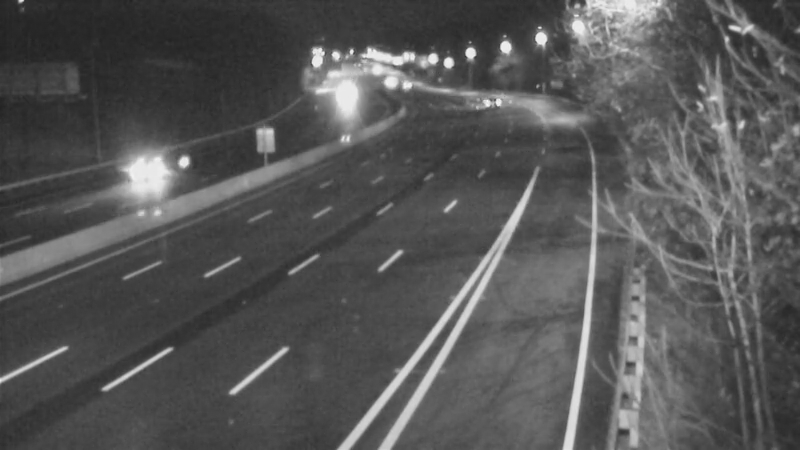vehicle: (114, 128, 194, 208), (381, 56, 431, 106), (361, 57, 411, 107), (463, 75, 513, 125), (318, 69, 368, 119)
